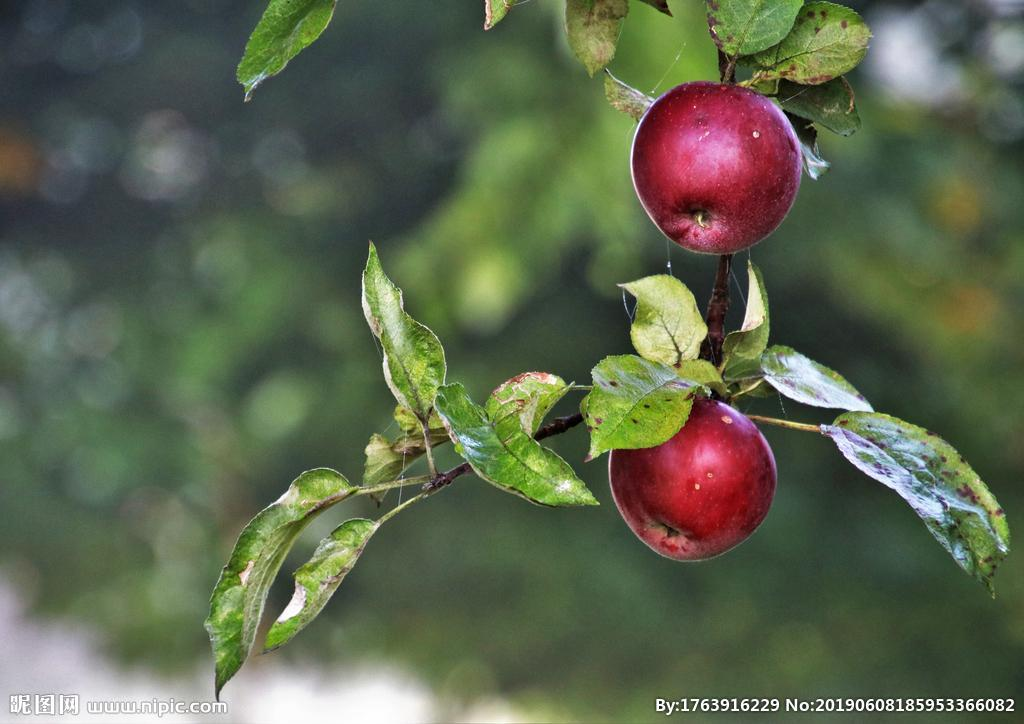apple: (627, 80, 807, 255), (606, 395, 780, 562)
